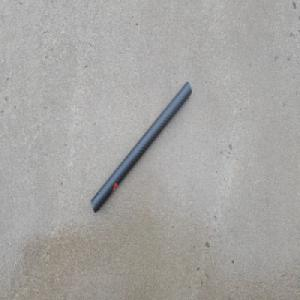LuggagePart: (89, 80, 192, 216)
